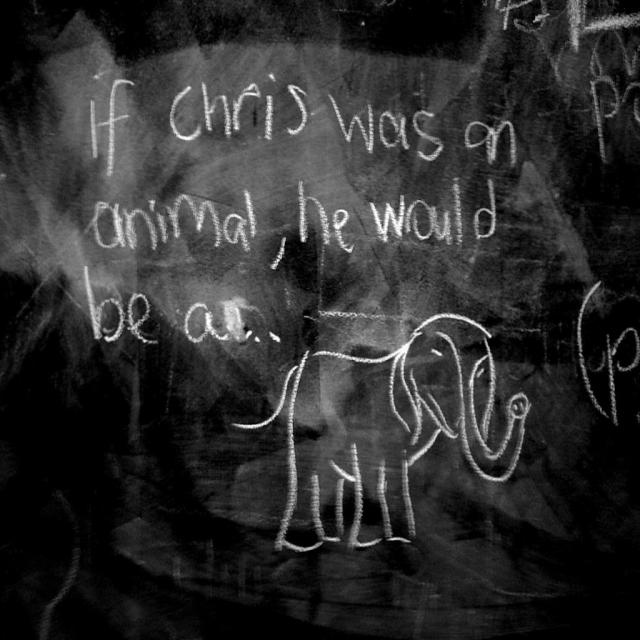elephant: (267, 324, 512, 538)
